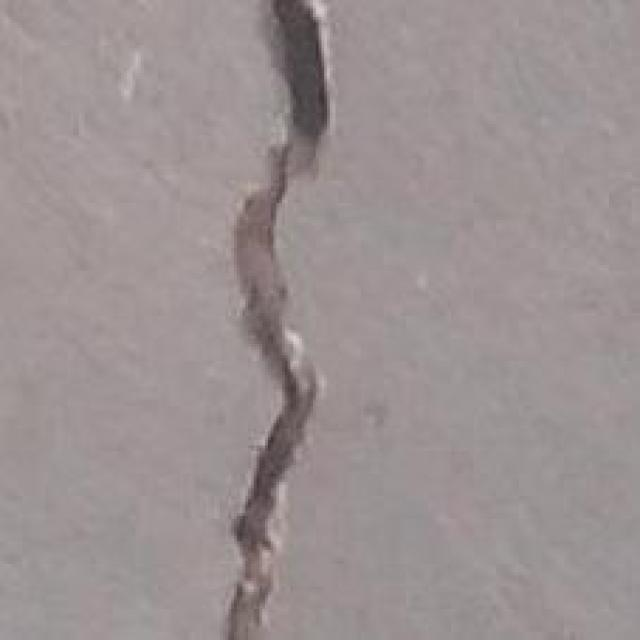Crack: (220, 0, 330, 637)
